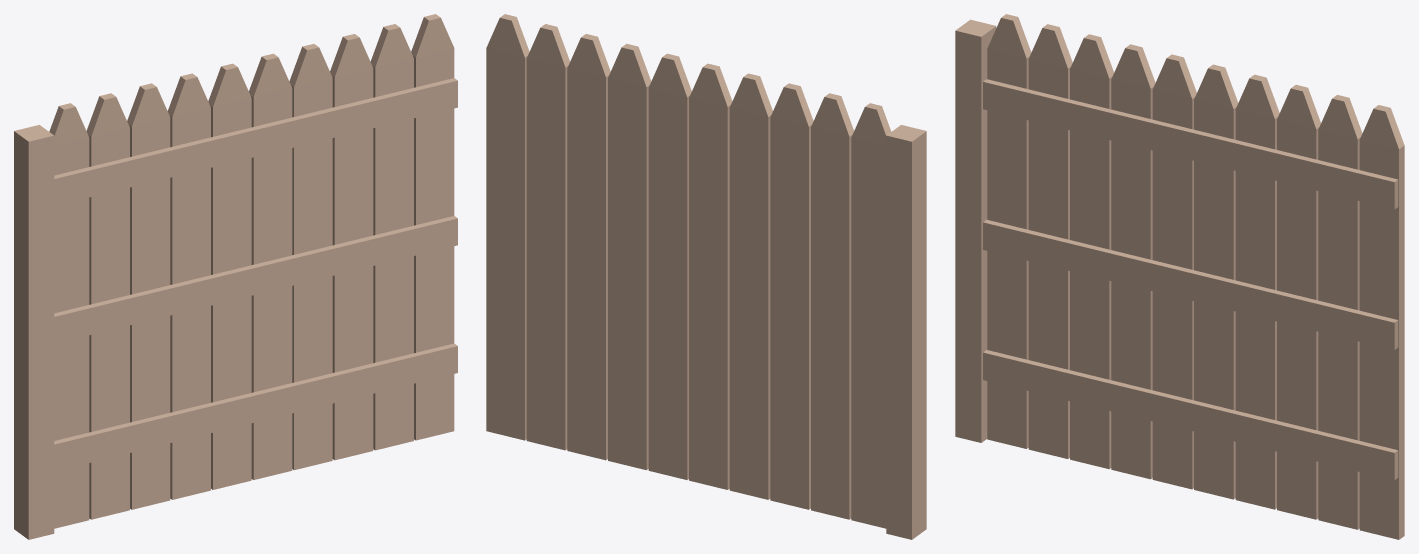
File: FenceTall.fbx
The picture shows the model from 3 angles, left to right: view 1: azimuth 30°, elevation 25°; view 2: azimuth 150°, elevation 25°; view 3: azimuth 330°, elevation 25°; orthographic projection.
Visible parts, largest first — view 1: FenceTall; view 2: FenceTall; view 3: FenceTall.
Part boxes in pixels (<box>): FenceTall: <box>14,14,457,539</box>; FenceTall: <box>486,14,926,539</box>; FenceTall: <box>955,14,1404,539</box>.
Size of the model in its own units: 216 by 200 by 12.82.
